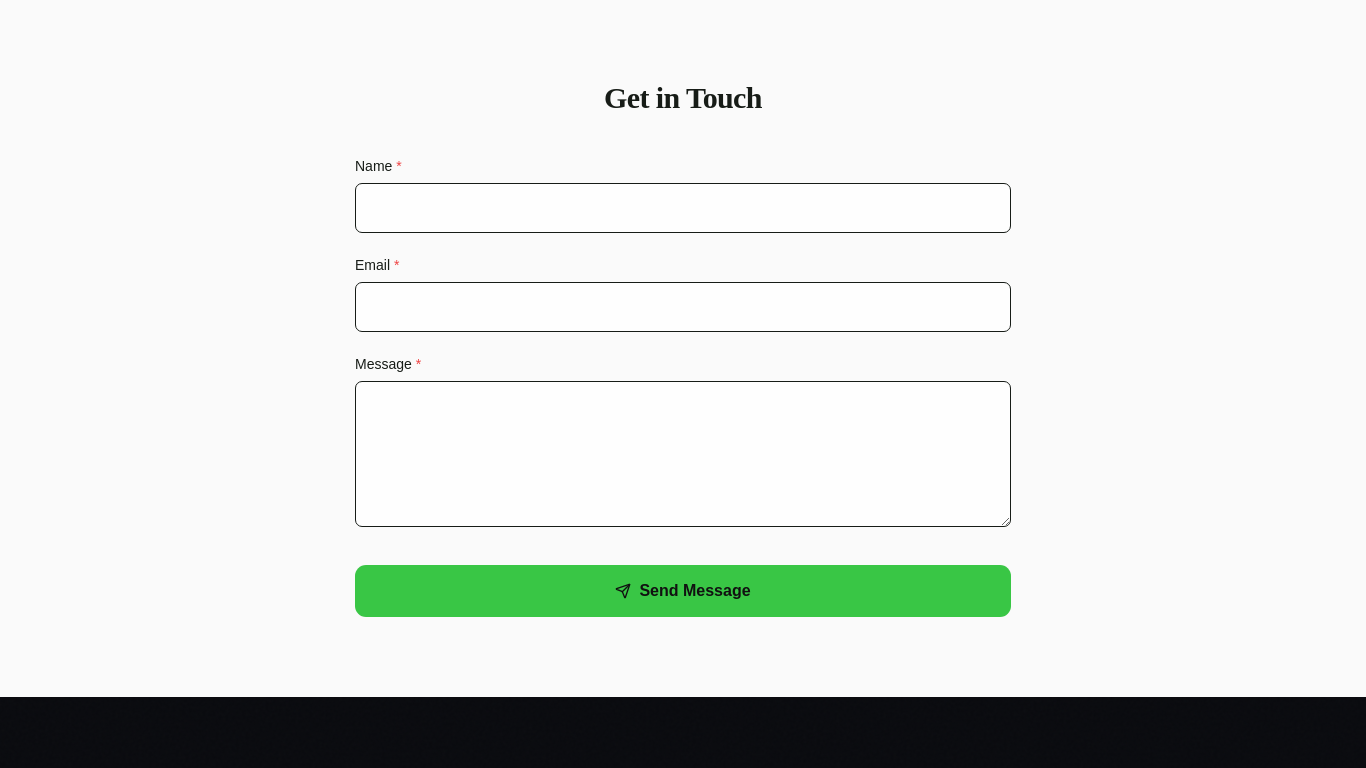
Test: FormContact › shows a per-field error only for the empty required field
The image size is (1366, 768).
Note: Fill name and message but leave email empty
In the field labelled "Name*": (683, 208) x1=355 y1=183 x2=1011 y2=233, type "Alice"
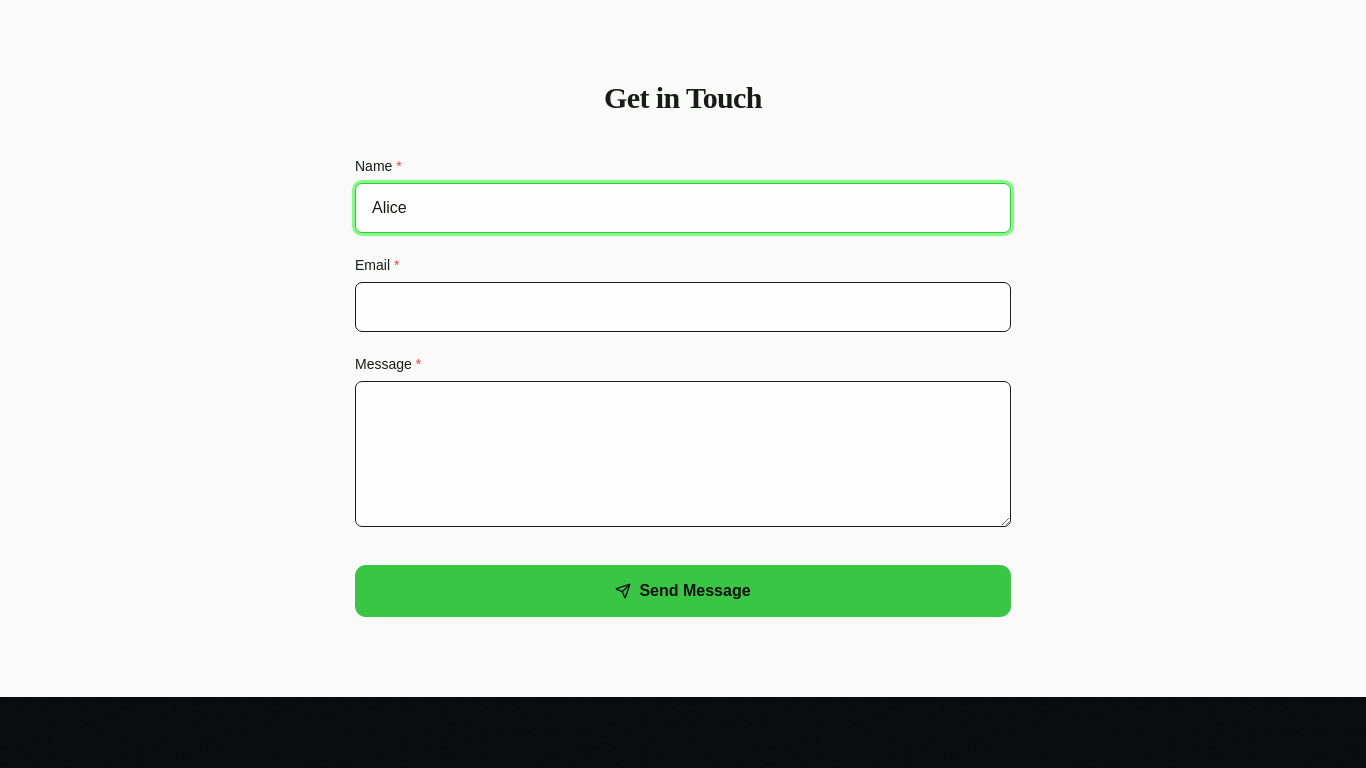
In the text box labelled "Message*": (683, 454) x1=355 y1=381 x2=1011 y2=527, type "Hello there"
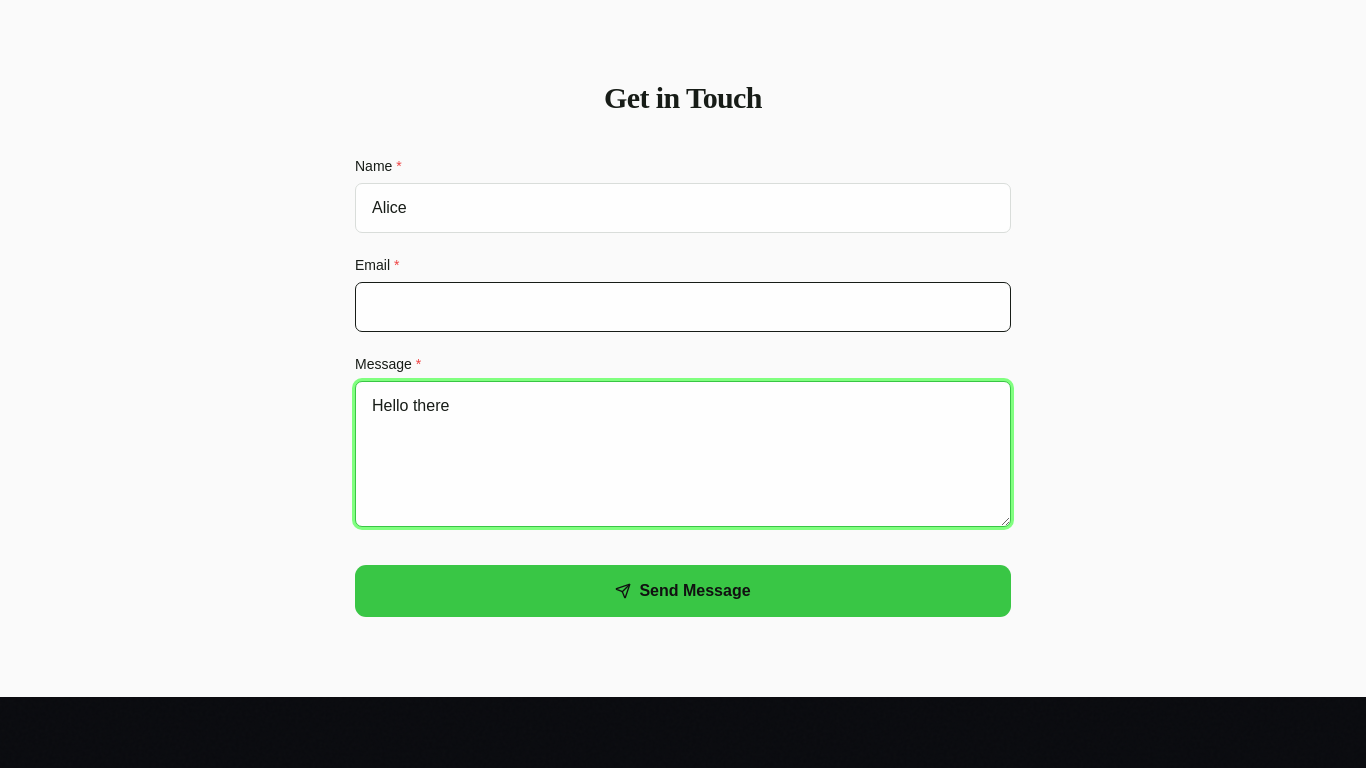
Click the button "Send Message": (683, 591) x1=355 y1=565 x2=1011 y2=617
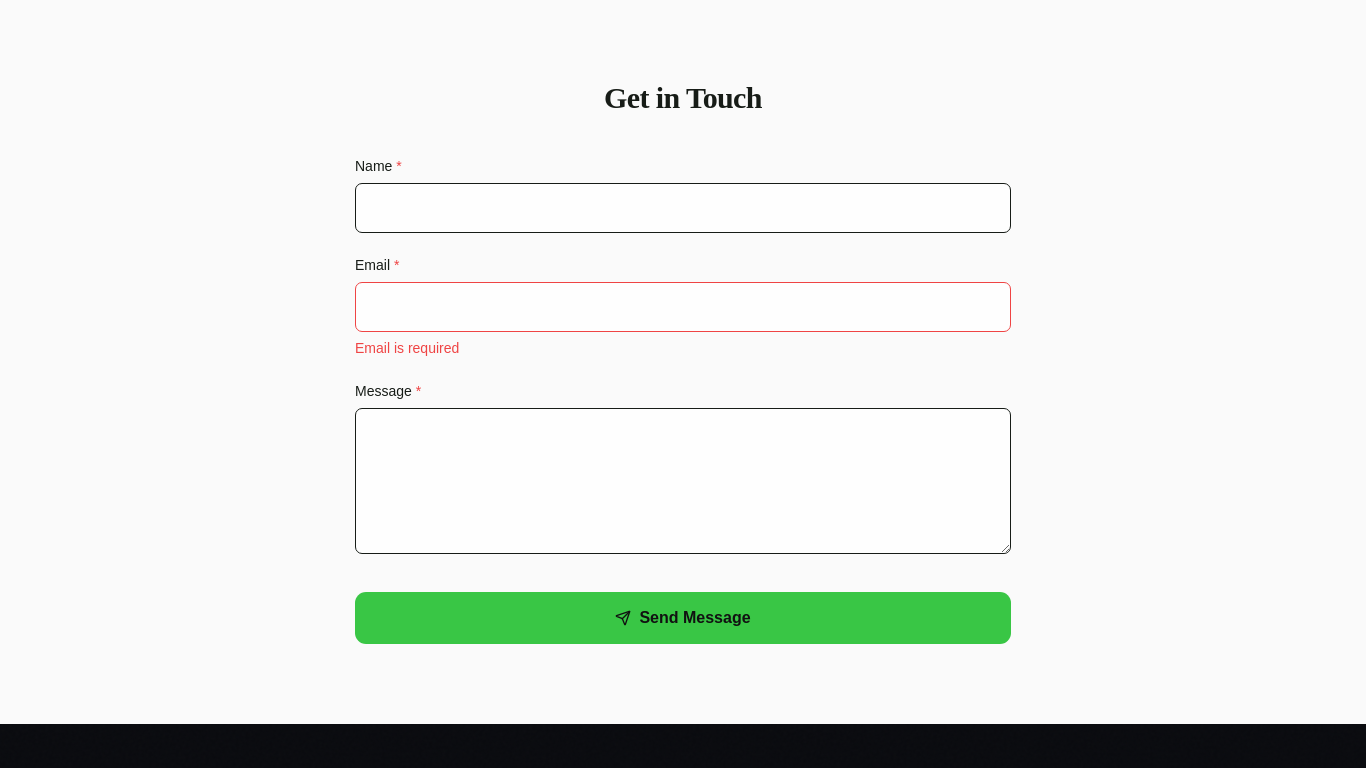
Check: the text "Email is required" is shown, box x1=355 y1=340 x2=459 y2=356
